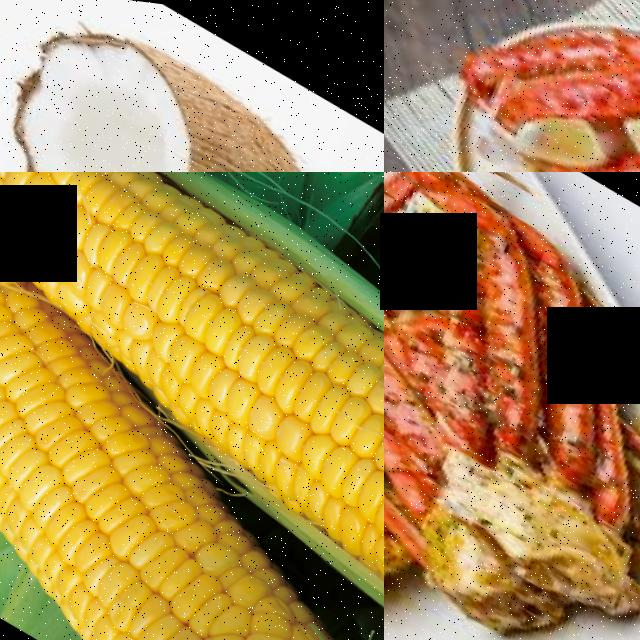coconut: (0, 0, 374, 172), (0, 106, 384, 172)
corn: (0, 172, 362, 460), (0, 412, 384, 640), (188, 261, 384, 624), (0, 211, 174, 542)
crab: (384, 172, 640, 519), (479, 0, 640, 172)
